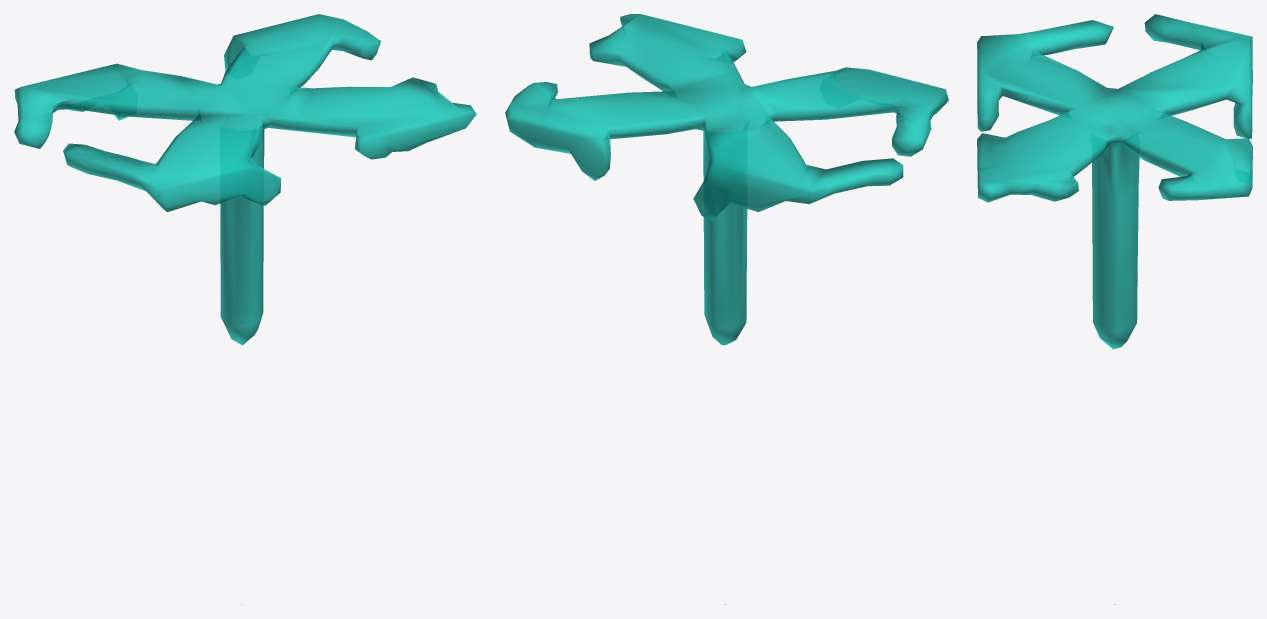
3 renders of one model, left to right at view 1: azimuth 30°, elevation 25°; view 2: azimuth 150°, elevation 25°; view 3: azimuth 270°, elevation 25°, orthographic.
Visible parts, largest first — view 1: Liquid_Domain; view 2: Liquid_Domain; view 3: Liquid_Domain.
Boxes of the visible parts, x1,y1,x2,y2 form: Liquid_Domain: (14, 14, 476, 345); Liquid_Domain: (505, 14, 948, 345); Liquid_Domain: (977, 14, 1252, 349).
Size of the model in its own units: 523 by 683 by 344.
